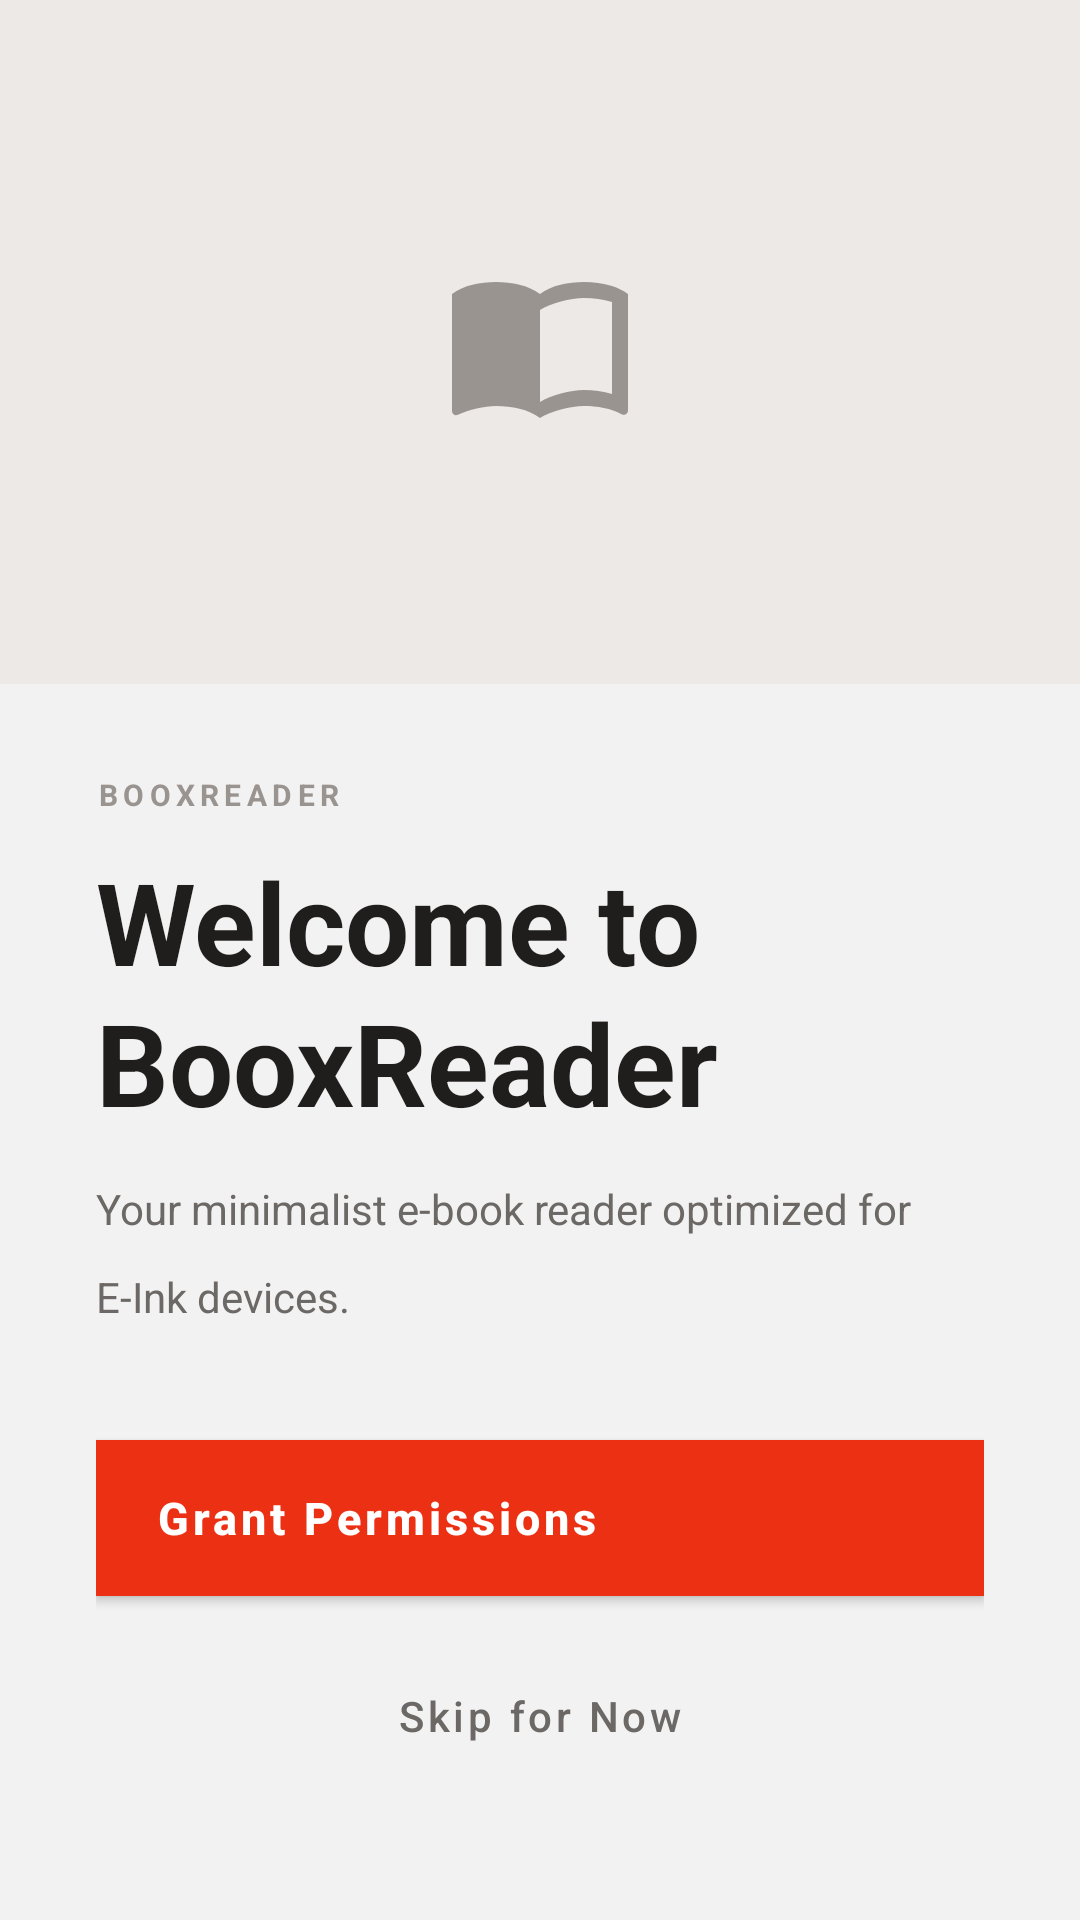

Screen size 1080 x 1920. Icon name, then its center in pixels as [x,y]:
book: [540,350]
